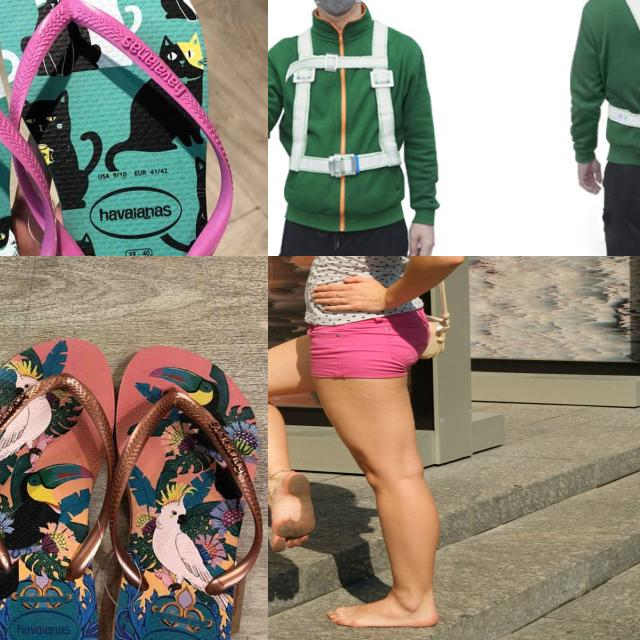Barefoots: (270, 472, 316, 552), (327, 599, 439, 627)
Harness: (277, 22, 410, 256), (595, 0, 640, 246)
Sandals: (0, 285, 268, 640), (0, 0, 242, 256)
